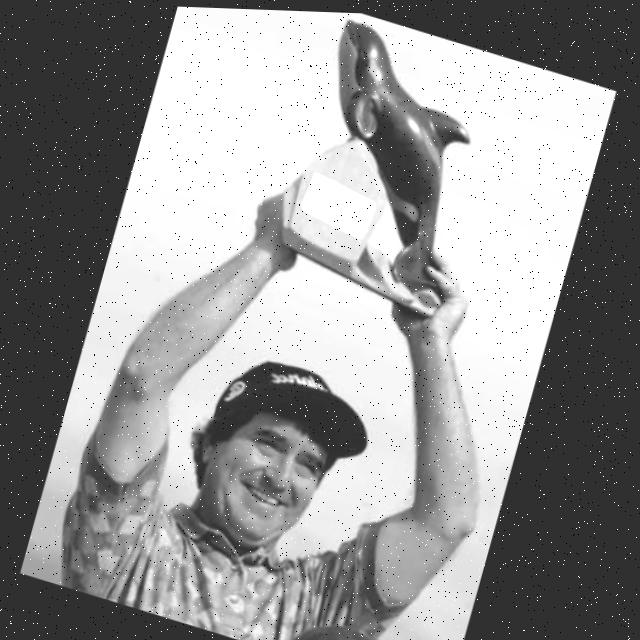face: (169, 345, 386, 584)
